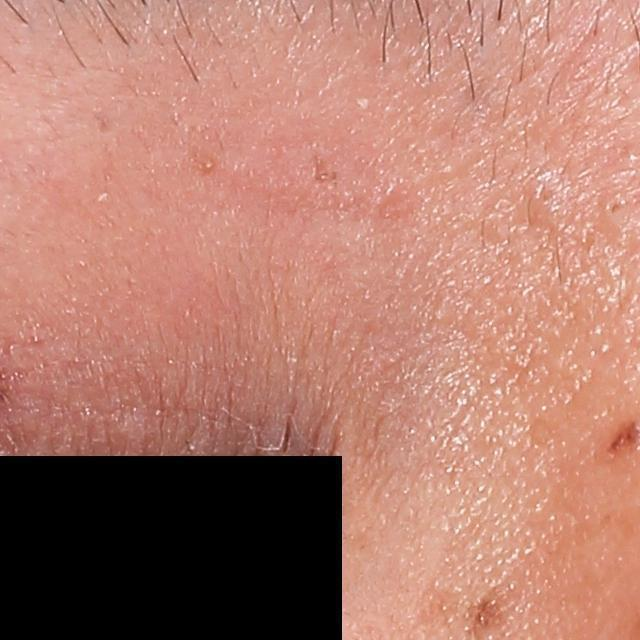nevus: (469, 595, 501, 635), (600, 428, 640, 460)
